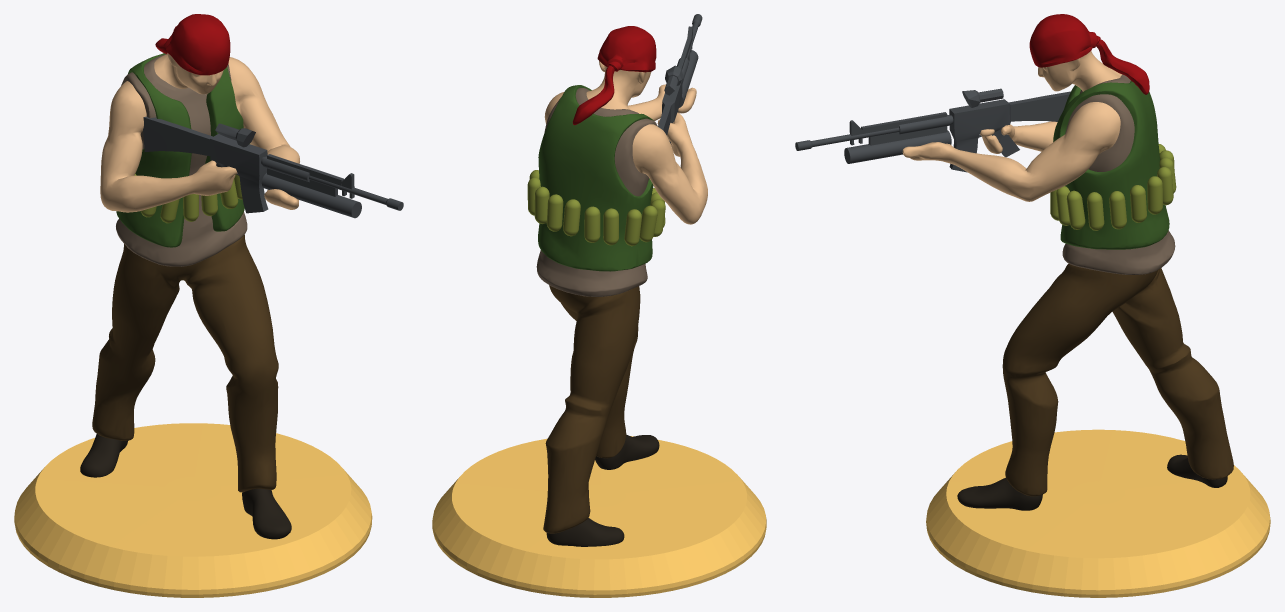
The model's file is Ch_Man_01.fbx.
3 renders of one model, left to right at view 1: azimuth 30°, elevation 25°; view 2: azimuth 150°, elevation 25°; view 3: azimuth 270°, elevation 25°, orthographic. The views are drawn at different scales.
Parts seen in each view (by area): view 1: Ch_Man_01; view 2: Ch_Man_01; view 3: Ch_Man_01.
Boxes of the visible parts, box(x1,y1,x2,y2) form: Ch_Man_01: box(14, 14, 403, 597); Ch_Man_01: box(432, 14, 766, 597); Ch_Man_01: box(795, 14, 1270, 597).
Size of the model in its own units: 108 by 173 by 149.
